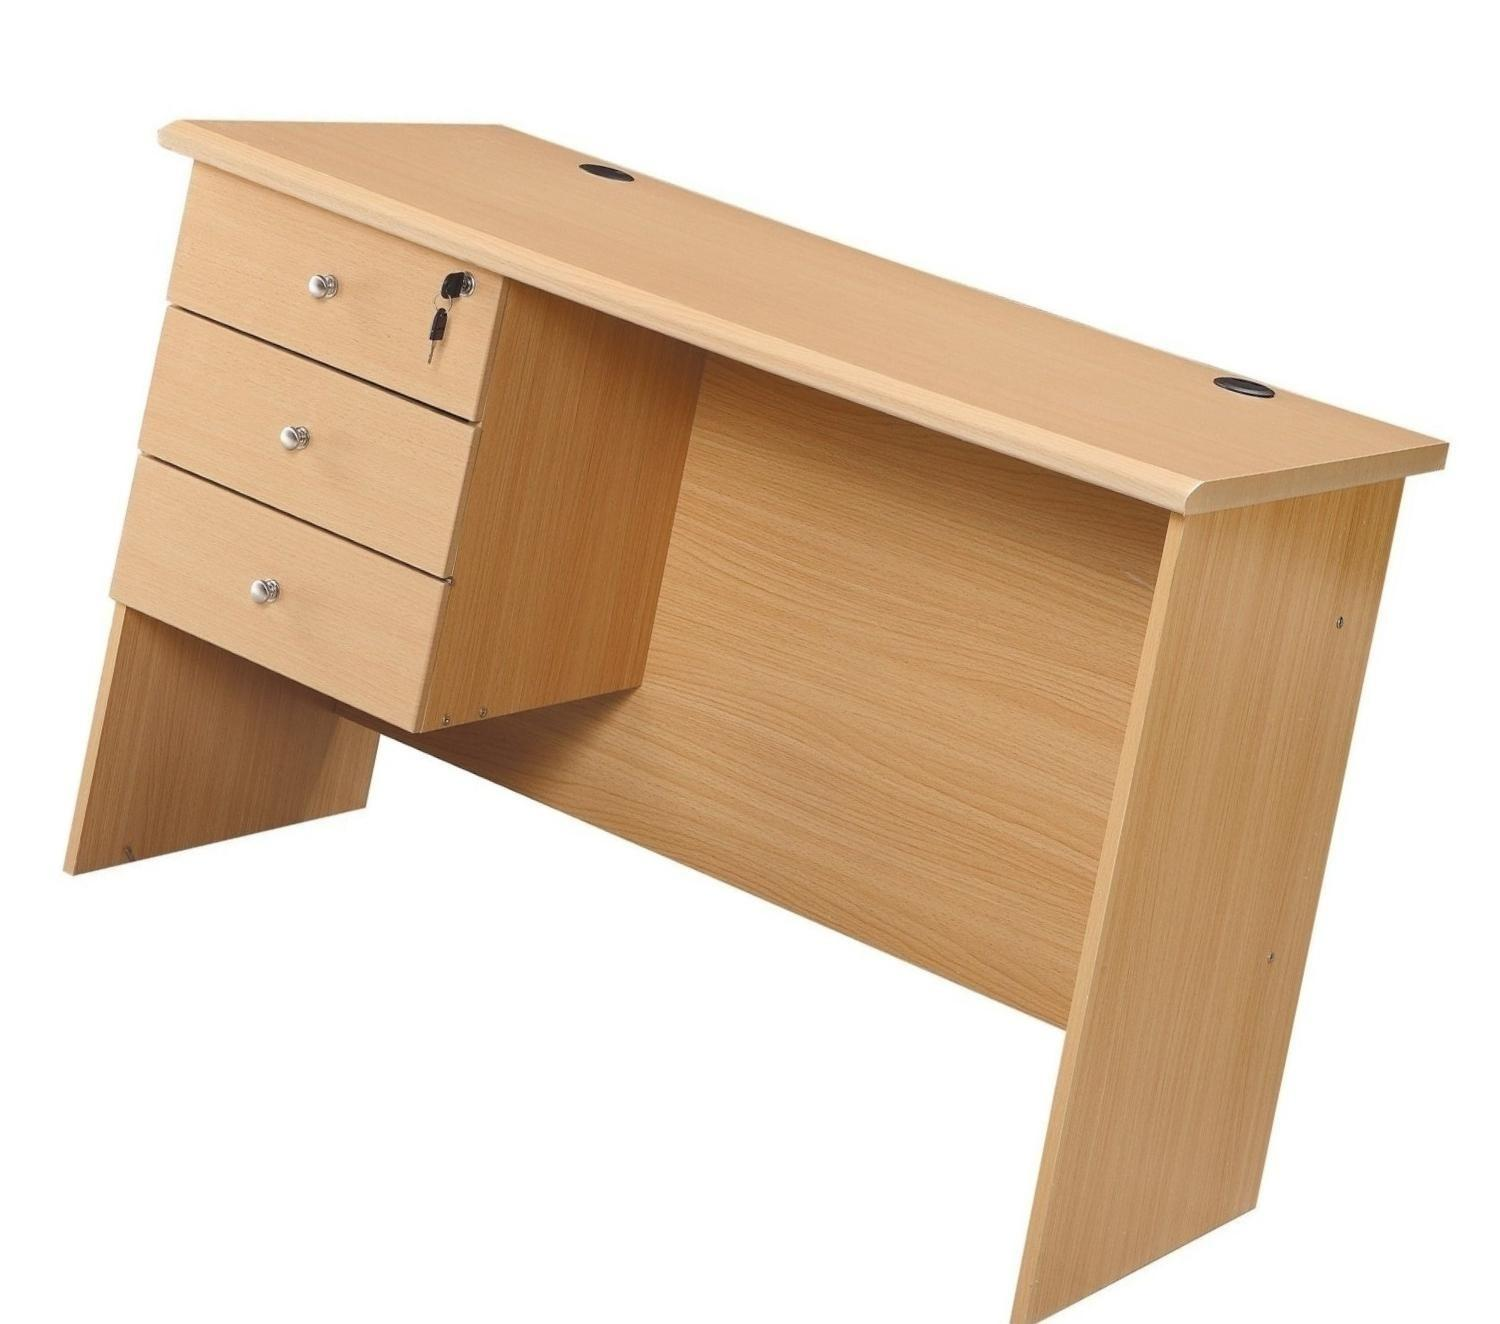cabinet_door: (130, 505, 437, 663), (147, 350, 466, 496), (179, 206, 454, 346)
handle: (300, 266, 349, 311), (271, 415, 316, 463), (244, 566, 286, 615)
